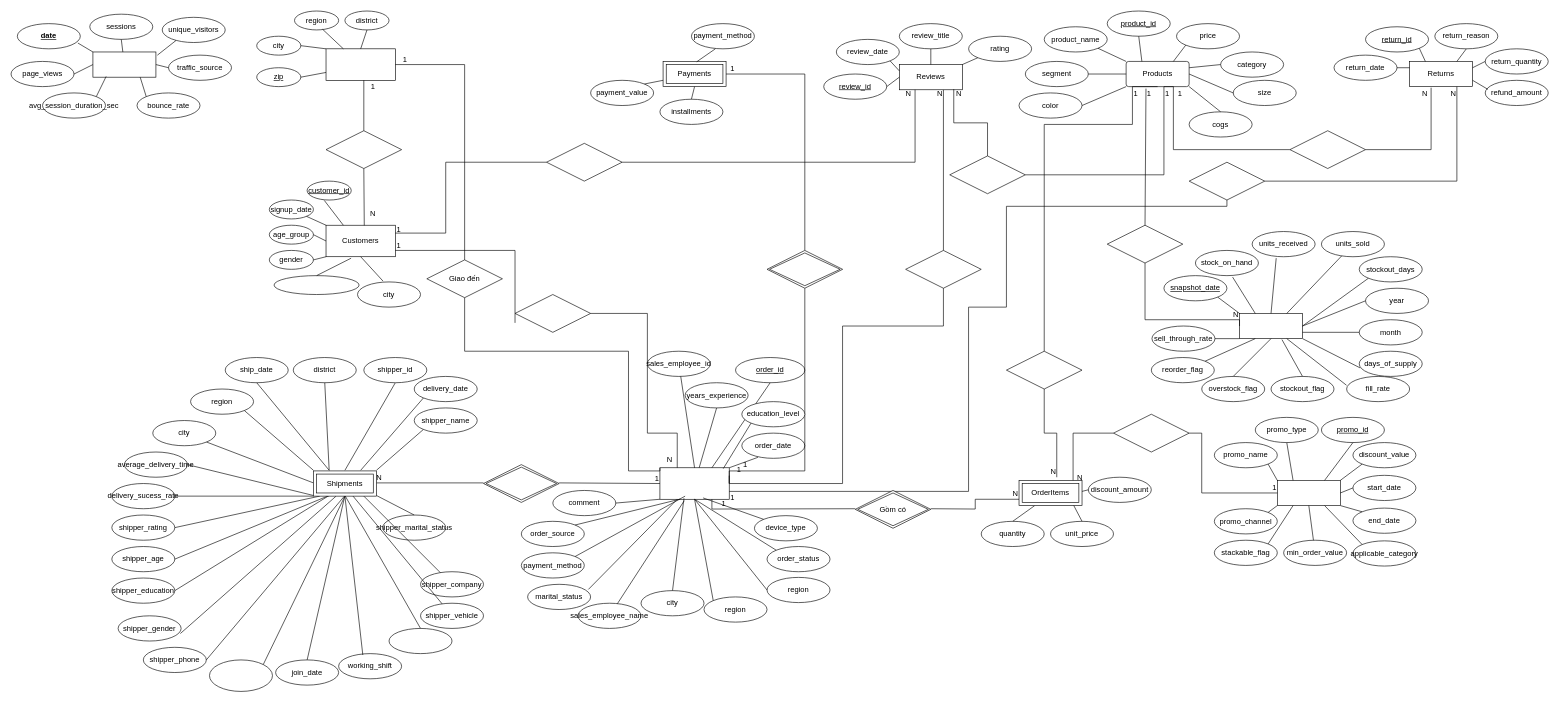
Some shapes in this 1559 by 702 pixel diagram are drawn without their labels. The box of each missing label's shape, as (x1, y1, x2, y2) in pixels:
acquisition_channel: (273, 275, 359, 295)
Có mặt trong: (1006, 351, 1082, 389)
Geography: (325, 48, 395, 80)
Hình thoi: (483, 464, 559, 502)
Inventory: (1239, 313, 1303, 339)
Kèm theo: (905, 250, 981, 288)
Orders: (659, 467, 729, 499)
Promotions: (1277, 480, 1340, 506)
shipper_experience_years: (209, 659, 272, 691)
shipping_fee: (388, 628, 452, 654)
Sống ở: (325, 130, 402, 169)
WebTraffic: (92, 51, 156, 77)
Áp dụng cho: (1113, 414, 1189, 452)
Đánh giá bởi: (546, 143, 622, 181)
Được kiểm trong: (1107, 225, 1183, 263)
Được thanh toán bới: (766, 250, 843, 288)
Được trả: (1188, 162, 1265, 200)
Được trả trong: (1289, 130, 1366, 169)
Được đánh giá trong: (949, 155, 1025, 194)
Đặt: (514, 294, 591, 332)
